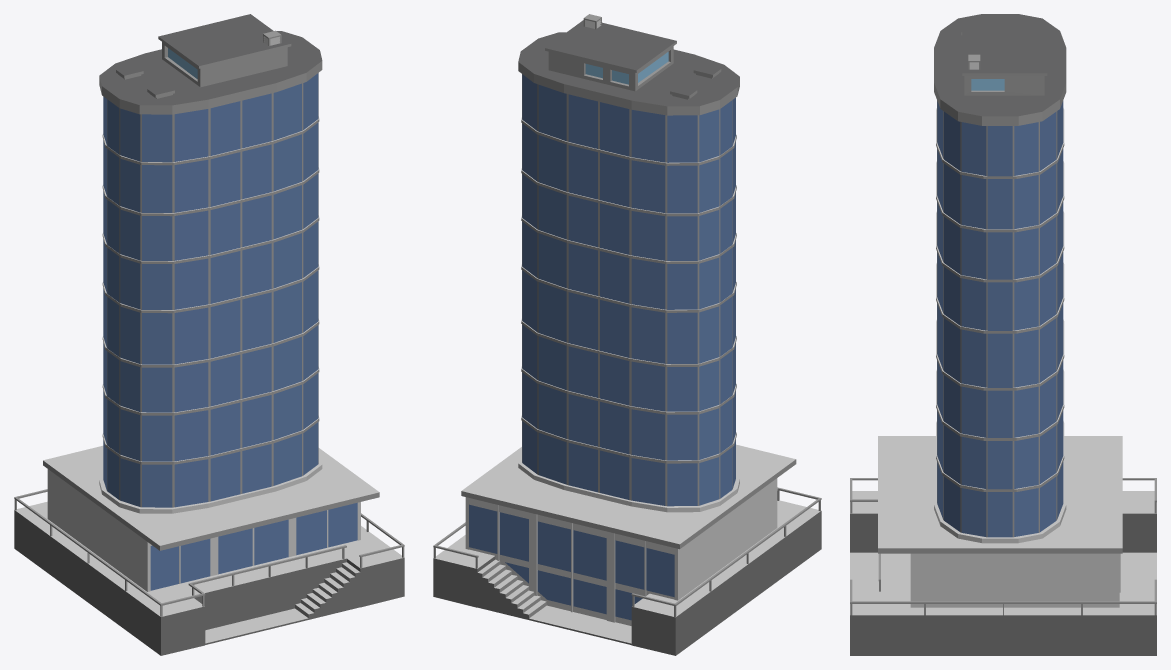
File: building_1_2_2_9.glb
3 renders of one model, left to right at view 1: azimuth 30°, elevation 25°; view 2: azimuth 150°, elevation 25°; view 3: azimuth 270°, elevation 25°, orthographic. The views are drawn at different scales.
Parts seen in each view (by area): view 1: building_1_2_2_9; view 2: building_1_2_2_9; view 3: building_1_2_2_9.
Boxes of the visible parts, x1,y1,x2,y2 form: building_1_2_2_9: [14, 14, 404, 655]; building_1_2_2_9: [433, 14, 821, 655]; building_1_2_2_9: [850, 14, 1156, 655].
Bounding box in the file's own units: 28.69 × 60.36 × 29.9.
Materials: 1 (1 with a texture image).
